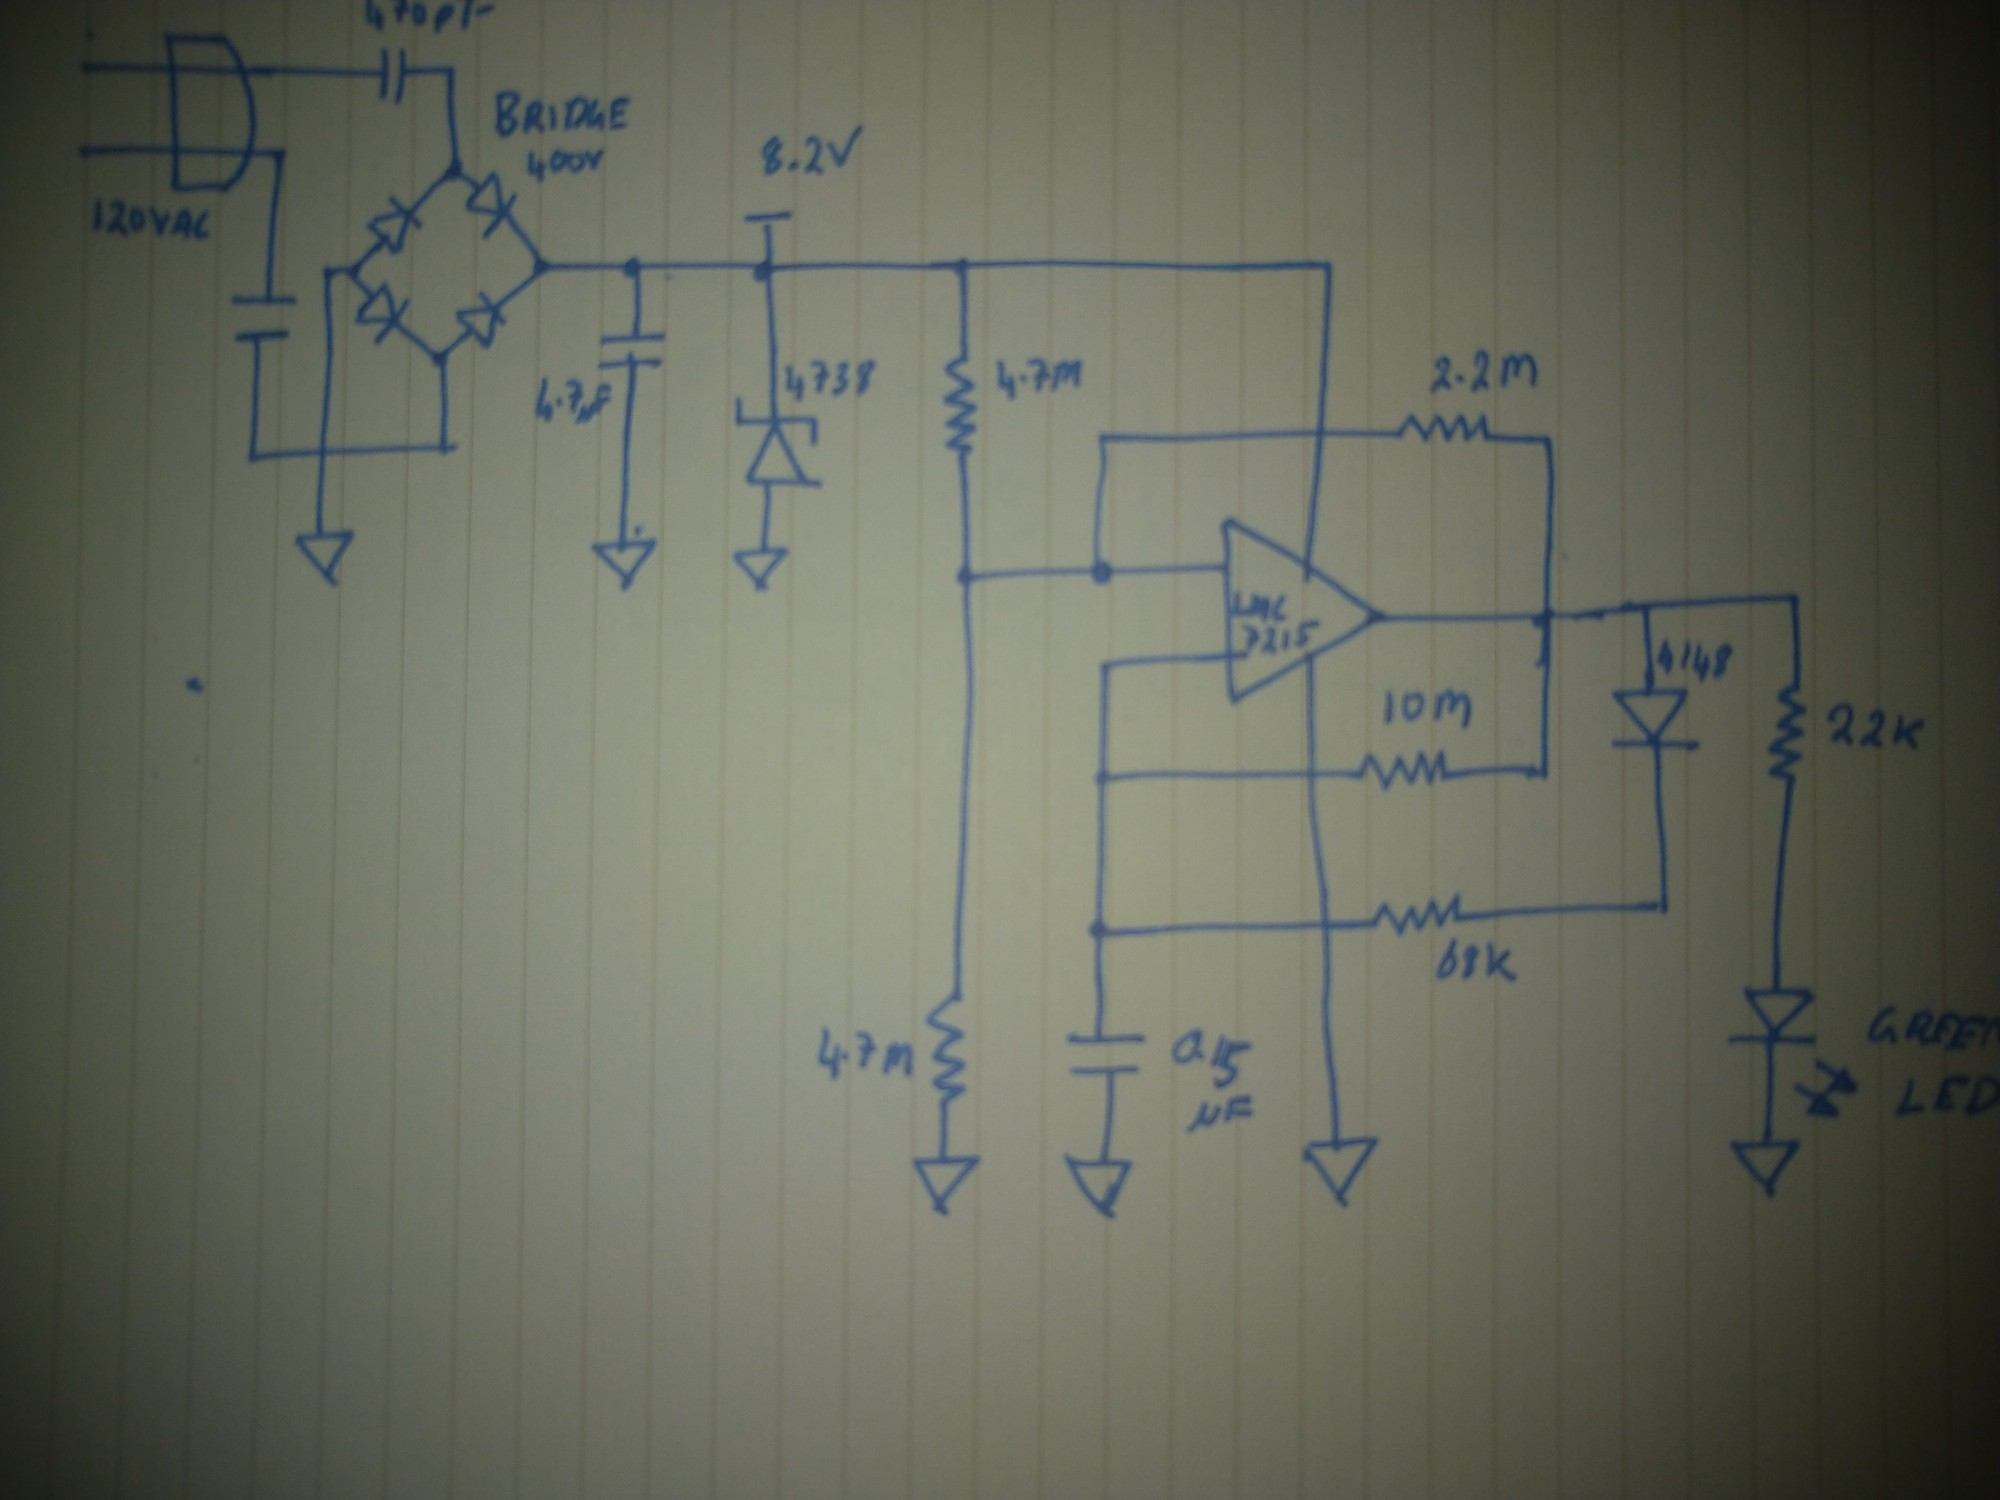capacitor.unpolarized: (1061, 1027, 1151, 1081), (227, 291, 299, 347), (594, 328, 668, 373), (376, 43, 411, 107)
crossover: (1306, 419, 1339, 441), (1312, 914, 1342, 937), (1301, 766, 1326, 786), (312, 443, 332, 462)
diode: (731, 394, 825, 490), (1602, 685, 1706, 755), (353, 280, 413, 347), (463, 172, 520, 239), (365, 192, 424, 257), (457, 288, 509, 351)
diode.light_emitting: (1724, 986, 1858, 1122)
gnd: (1301, 1134, 1381, 1209), (587, 533, 663, 594), (910, 1153, 983, 1216), (1063, 1157, 1132, 1220), (1731, 1138, 1800, 1194), (293, 529, 357, 585), (726, 544, 791, 594)
junction: (750, 257, 780, 287), (1087, 559, 1117, 589), (436, 156, 468, 184), (1531, 605, 1562, 630), (946, 254, 975, 279), (951, 562, 980, 588), (1085, 919, 1115, 942), (528, 254, 553, 280), (620, 255, 647, 280), (433, 438, 458, 462), (1090, 766, 1115, 789), (1650, 895, 1672, 920), (1781, 585, 1806, 607), (1532, 763, 1557, 782), (1631, 596, 1657, 614), (243, 446, 265, 466), (271, 143, 291, 164), (431, 348, 452, 369), (345, 262, 364, 284), (441, 60, 461, 79), (1321, 255, 1340, 276), (1094, 657, 1115, 676), (1535, 433, 1557, 451), (1093, 430, 1112, 447), (320, 262, 335, 280)
operational_amplifier: (1217, 514, 1383, 707)
resistor: (923, 993, 972, 1108), (937, 355, 984, 460), (1765, 684, 1813, 786), (1356, 747, 1454, 796), (1372, 892, 1465, 939), (1395, 410, 1491, 446)
socket: (165, 28, 258, 195)
terminal: (742, 203, 795, 230), (65, 54, 101, 80), (63, 140, 101, 165)
text: (1169, 1026, 1260, 1139), (493, 88, 633, 140), (1865, 1002, 2000, 1056), (754, 120, 868, 180), (814, 1021, 920, 1084), (87, 192, 213, 244), (1824, 700, 1928, 755), (1427, 345, 1540, 395), (1228, 592, 1321, 652), (1894, 1071, 2000, 1119), (783, 355, 879, 405), (995, 351, 1083, 405), (361, 2, 499, 35), (531, 375, 616, 429), (1655, 635, 1740, 684), (1435, 937, 1520, 985), (1383, 689, 1476, 731), (526, 145, 609, 189)
